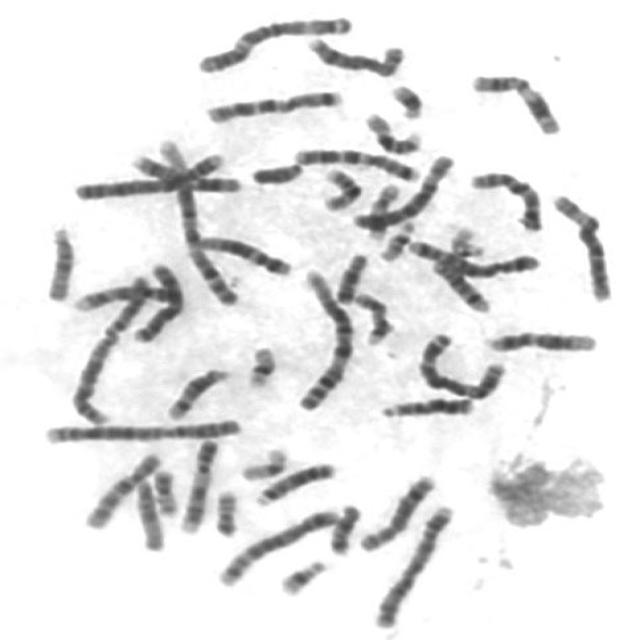A1: (126, 141, 243, 308), (290, 263, 358, 412)
A2: (65, 270, 161, 426), (36, 410, 246, 447)
A3: (190, 7, 357, 75), (411, 326, 509, 402)
B4: (367, 498, 458, 630), (67, 146, 233, 203)
B5: (210, 501, 344, 588), (400, 233, 544, 279)
C10: (76, 444, 166, 532), (464, 164, 546, 234)
C11: (464, 66, 566, 137), (123, 149, 243, 196)
C12: (190, 229, 295, 278), (477, 323, 603, 355)
C6: (349, 148, 458, 233), (545, 186, 617, 304)
C7: (198, 82, 346, 125), (287, 141, 423, 183)
C8: (353, 468, 439, 553), (300, 30, 409, 78)
C9: (174, 432, 224, 535), (67, 276, 186, 314)
D13: (248, 456, 339, 508), (374, 390, 478, 420)
D14: (160, 361, 233, 421), (427, 253, 495, 313)
D15: (38, 219, 78, 304), (127, 473, 169, 553)
E16: (357, 106, 426, 156), (315, 162, 365, 212)
E17: (346, 285, 396, 347), (361, 178, 405, 241)
E18: (329, 246, 372, 305), (323, 497, 365, 556)
F19: (234, 440, 292, 483), (240, 338, 280, 391)
F20: (147, 462, 182, 519), (208, 483, 243, 538)
G21: (272, 552, 330, 598), (384, 77, 427, 120)
G22: (372, 214, 419, 264), (443, 220, 488, 259)
X: (127, 256, 188, 345)
Y: (244, 156, 306, 187)
